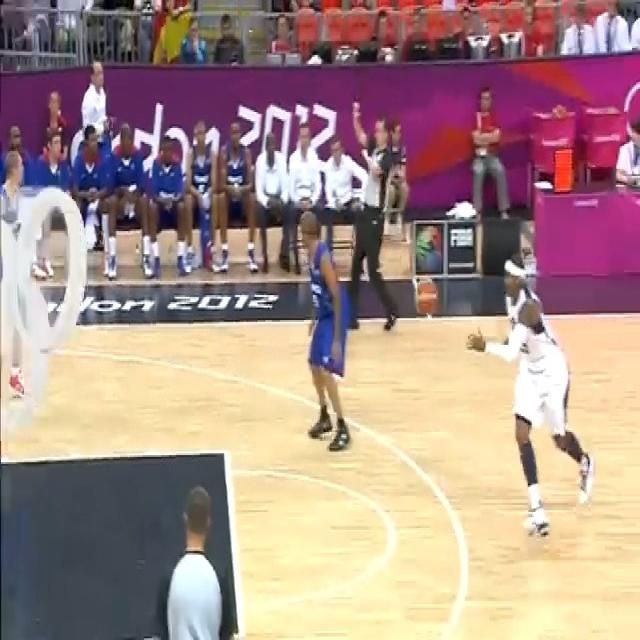basketball: (412, 274, 440, 316)
person: (481, 256, 599, 539), (302, 208, 349, 448), (250, 133, 304, 274), (138, 130, 186, 279), (186, 120, 222, 274), (82, 61, 110, 141), (594, 1, 630, 55), (179, 18, 207, 63)
